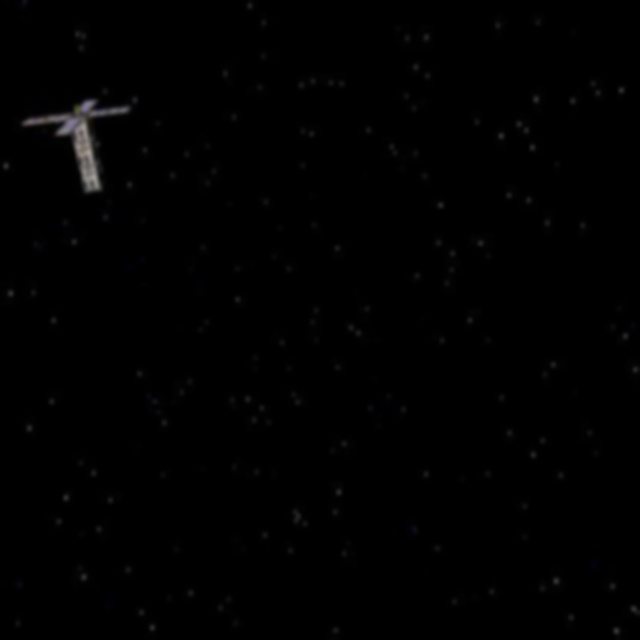satellite: (16, 90, 146, 205)
